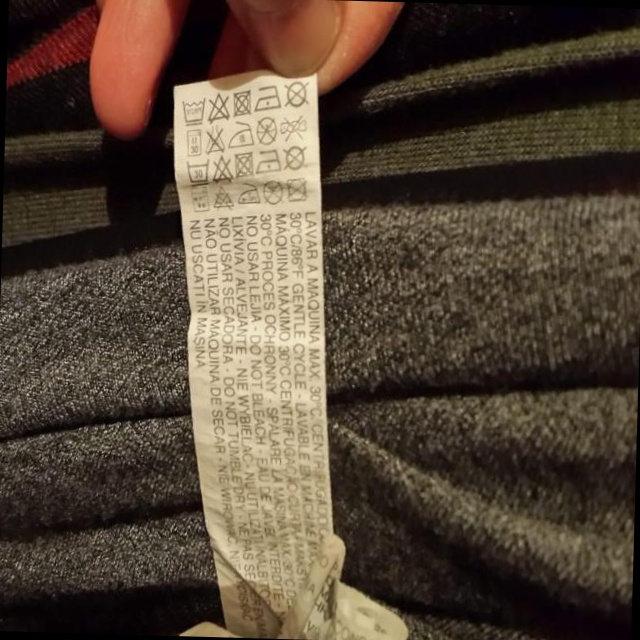DN_bleach: (208, 92, 230, 121), (213, 156, 234, 183), (215, 185, 237, 210)
DN_dry_clean: (255, 115, 281, 146), (286, 79, 309, 110), (283, 145, 311, 170), (262, 177, 285, 207)
DN_tumble_dry: (234, 151, 257, 179), (232, 87, 253, 117), (286, 177, 308, 203)
DN_wring: (281, 115, 311, 142)
iron: (227, 122, 255, 148)
iron_low: (254, 82, 284, 113), (256, 148, 283, 174), (238, 183, 260, 205)
machine_wash: (181, 95, 207, 127), (185, 156, 212, 186), (191, 185, 211, 215), (187, 125, 203, 158)
